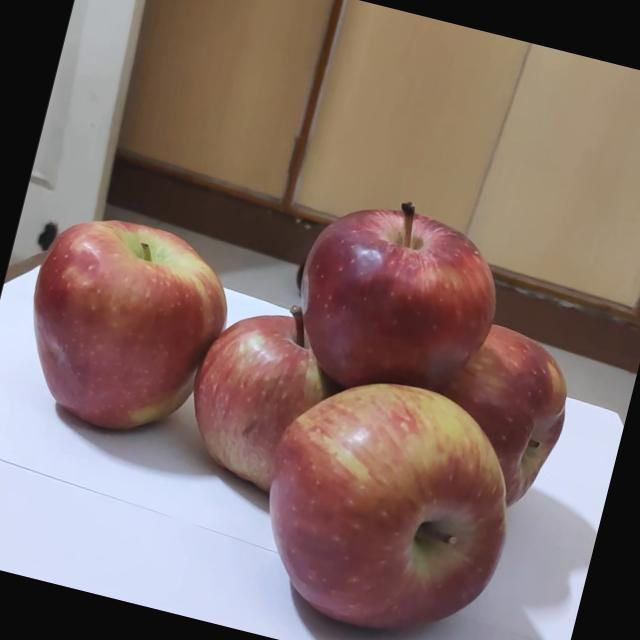apple: (210, 346, 535, 640), (0, 188, 268, 471), (349, 295, 602, 550), (266, 173, 514, 433), (162, 279, 378, 526)
